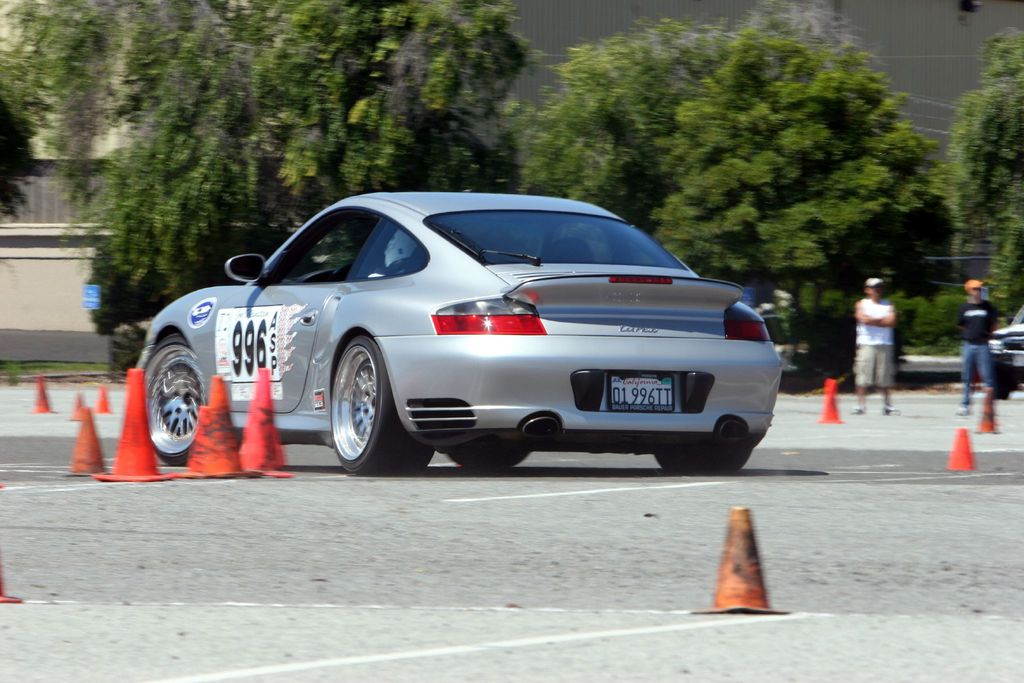Car: (135, 188, 781, 479), (987, 304, 1023, 378)
